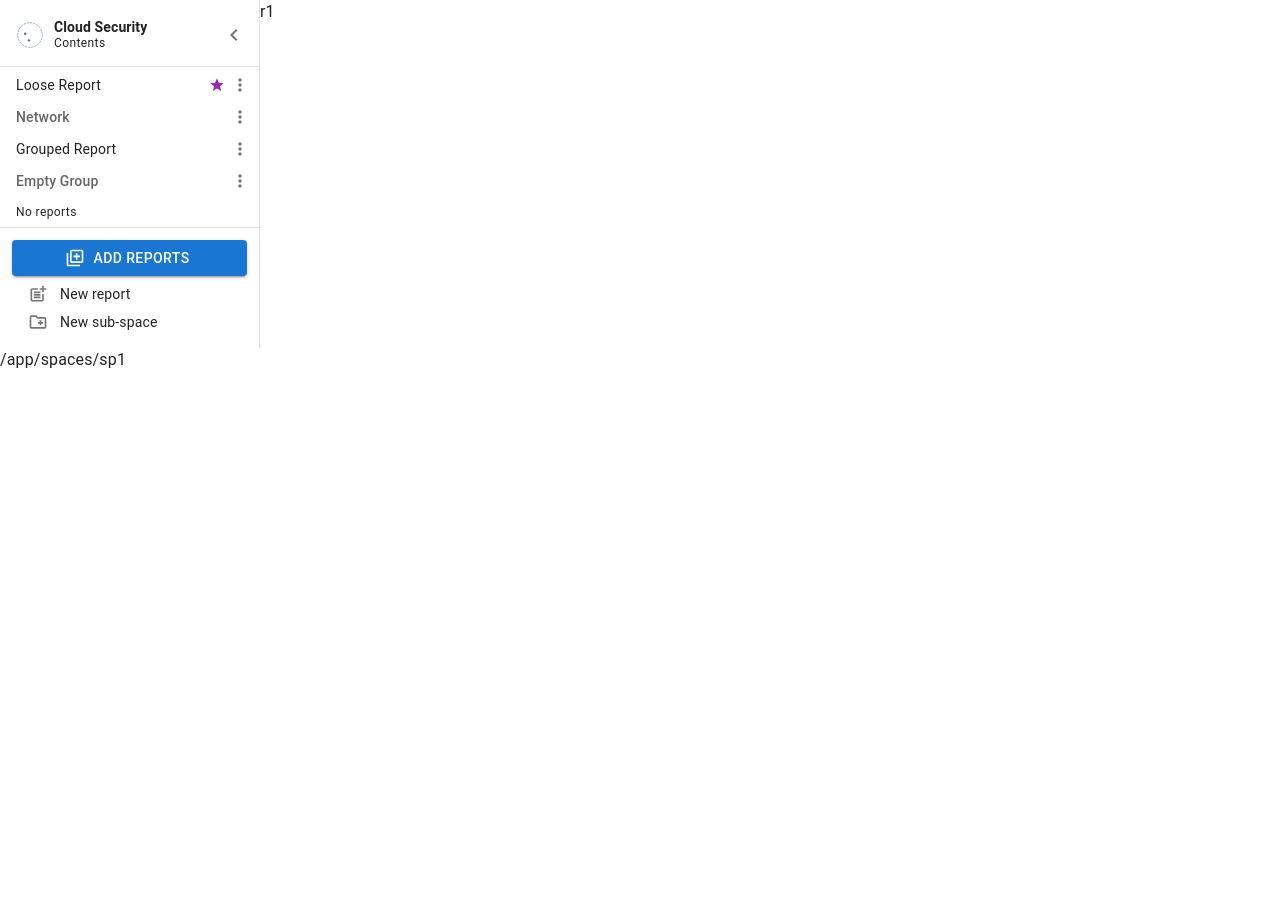
Test: SpaceDetail › starts the picker on a sub-space opened from its menu
Step 1. Click the button named "Sub-space actions" next to "Network" → (240, 117), box [225, 102, 255, 132]
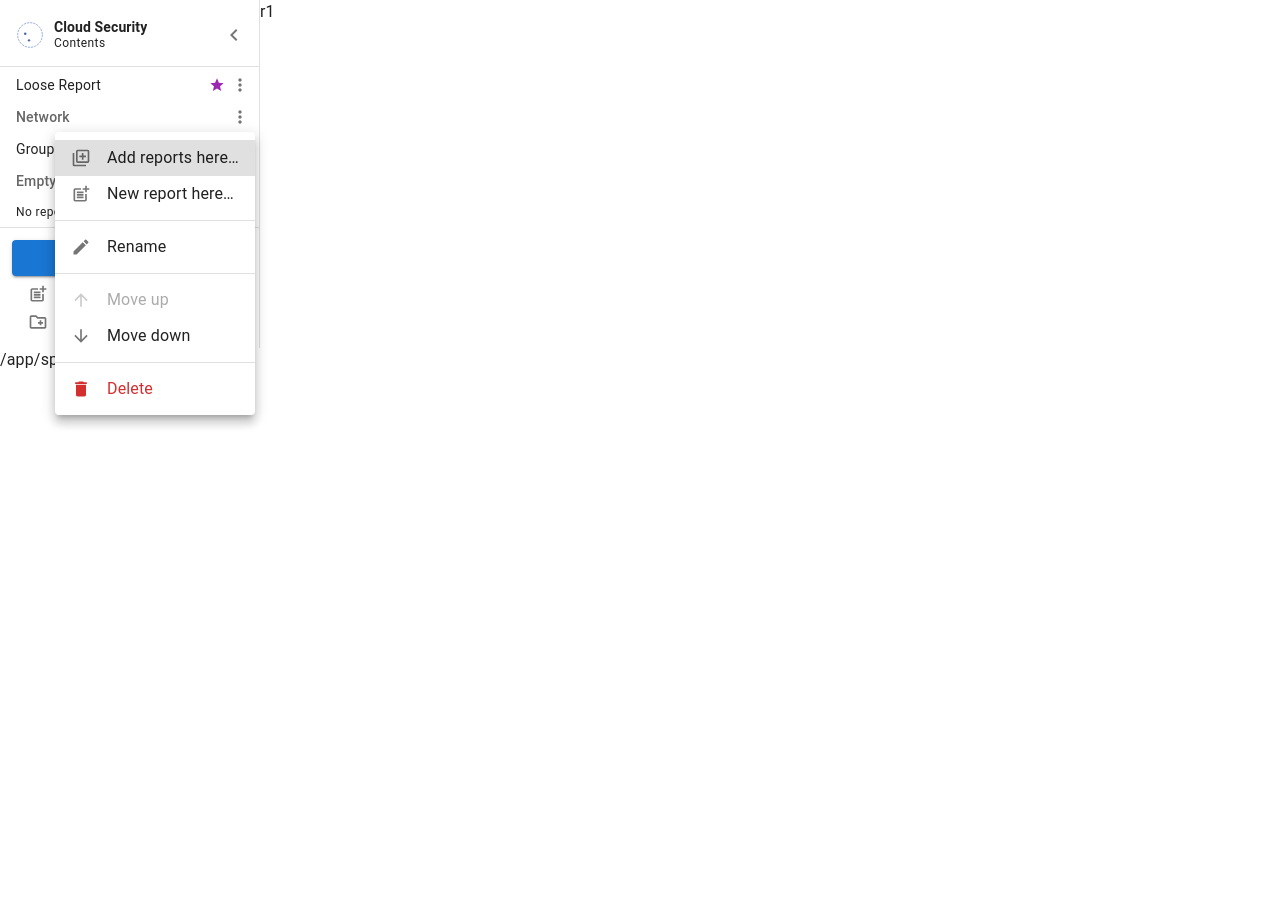
Step 2. Click the menu item "Add reports here…" → (155, 158), box [55, 140, 255, 176]
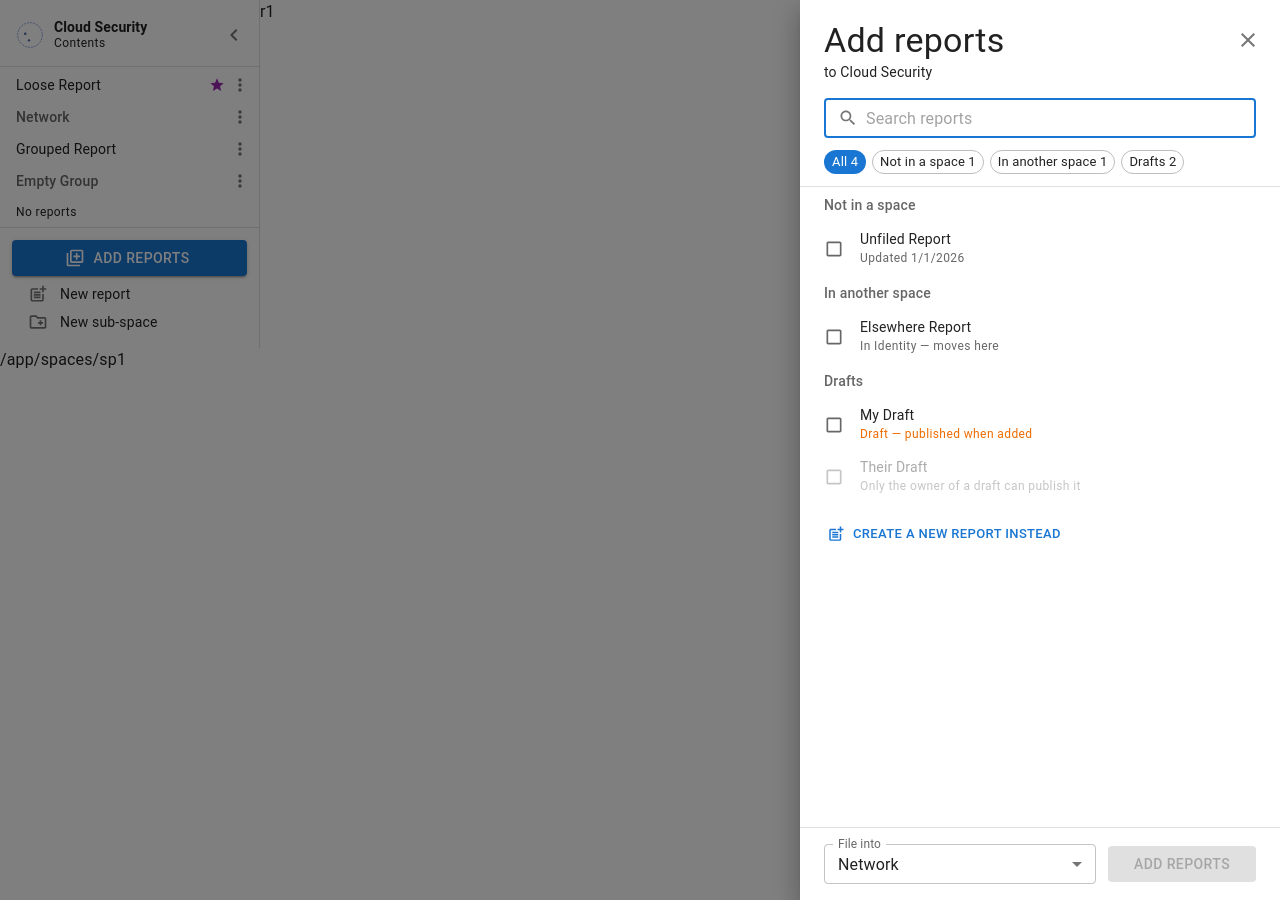
Expected: the dropdown reads "Network", [838, 854, 899, 874]
